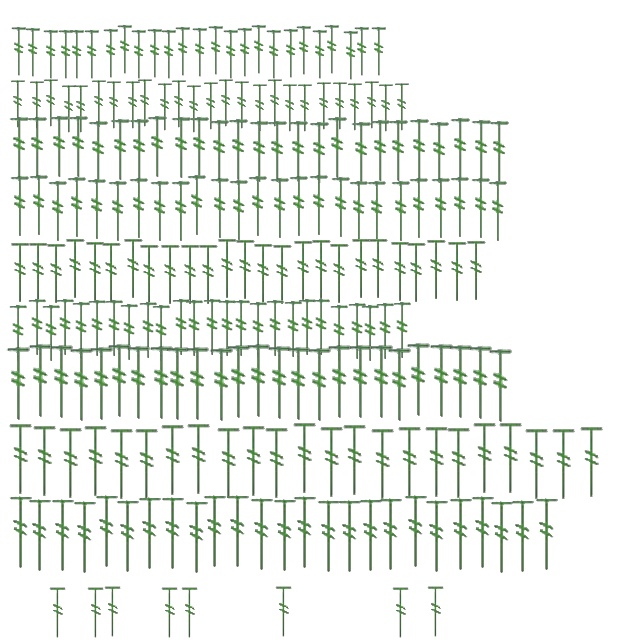fan: (26, 496, 54, 576), (49, 496, 77, 576), (71, 498, 99, 578), (93, 492, 121, 572), (136, 494, 164, 574), (159, 494, 187, 574), (183, 498, 211, 578), (201, 492, 229, 572), (224, 492, 252, 572), (271, 496, 299, 576), (357, 496, 385, 576), (402, 492, 430, 572), (488, 498, 516, 578), (7, 494, 35, 572), (114, 498, 142, 576), (248, 496, 276, 574), (291, 494, 319, 572), (315, 498, 343, 576), (336, 498, 364, 576), (377, 496, 405, 574), (423, 498, 451, 576), (447, 496, 475, 574), (469, 494, 497, 572), (509, 498, 537, 576), (533, 496, 561, 574), (7, 422, 35, 496), (31, 424, 59, 498), (57, 426, 85, 500), (82, 424, 110, 498), (108, 427, 136, 501), (133, 427, 161, 501), (159, 423, 187, 497), (185, 422, 213, 496), (215, 426, 243, 500), (240, 424, 268, 498), (263, 426, 291, 500), (291, 421, 319, 495), (318, 425, 346, 499), (341, 423, 369, 497), (369, 427, 397, 501), (396, 425, 424, 499), (423, 425, 451, 499), (445, 426, 473, 500), (471, 421, 499, 495), (497, 421, 525, 495), (523, 427, 551, 501), (550, 427, 578, 501), (578, 425, 606, 499), (5, 346, 31, 422), (27, 343, 53, 419), (48, 344, 74, 420), (68, 347, 94, 423), (88, 346, 114, 422), (106, 343, 132, 419), (125, 345, 151, 421), (148, 345, 174, 421), (164, 346, 190, 422), (184, 346, 210, 422), (208, 347, 234, 423), (225, 344, 251, 420), (245, 343, 271, 419), (266, 345, 292, 421), (285, 346, 311, 422), (306, 347, 332, 423), (326, 344, 352, 420), (347, 344, 373, 420), (368, 344, 394, 420), (386, 347, 412, 423), (405, 342, 431, 418), (428, 343, 454, 419), (447, 344, 473, 420), (467, 345, 493, 421), (487, 348, 513, 424), (84, 240, 108, 304), (234, 238, 258, 302), (252, 242, 276, 306), (310, 238, 334, 302), (328, 242, 352, 306), (446, 240, 470, 304), (64, 238, 88, 300), (100, 242, 124, 304), (122, 238, 146, 300), (138, 244, 162, 306), (216, 238, 240, 300), (292, 240, 316, 302), (350, 238, 374, 300), (8, 116, 30, 180), (26, 116, 48, 180), (48, 115, 70, 179), (67, 115, 89, 179), (87, 120, 109, 184), (109, 118, 131, 182), (128, 118, 150, 182), (146, 115, 168, 179), (170, 116, 192, 180), (188, 116, 210, 180), (208, 119, 230, 183), (227, 118, 249, 182), (248, 120, 270, 184), (266, 120, 288, 184), (287, 120, 309, 184), (308, 121, 330, 185), (326, 116, 348, 180), (350, 121, 372, 185), (369, 119, 391, 183), (387, 119, 409, 183), (408, 118, 430, 182), (428, 121, 450, 185), (449, 117, 471, 181), (470, 119, 492, 183), (488, 120, 510, 184), (28, 174, 50, 238), (66, 176, 88, 240), (86, 178, 108, 242), (170, 180, 192, 244), (186, 174, 208, 238), (308, 174, 330, 238), (330, 176, 352, 240), (348, 180, 370, 244), (366, 180, 388, 244), (390, 180, 412, 244), (46, 242, 68, 306), (390, 240, 412, 304), (426, 238, 448, 302), (128, 178, 150, 240), (228, 180, 250, 242), (288, 176, 310, 238), (408, 178, 430, 240), (430, 178, 452, 240), (470, 178, 492, 240), (10, 242, 32, 304), (28, 242, 50, 304), (160, 244, 182, 306), (180, 244, 202, 306), (198, 244, 220, 306), (272, 244, 294, 306), (368, 238, 390, 300), (406, 242, 428, 304), (466, 240, 488, 302), (48, 180, 68, 244), (108, 180, 128, 244), (150, 180, 170, 244), (450, 176, 470, 240), (488, 180, 508, 244), (10, 176, 30, 238), (210, 178, 230, 240), (248, 176, 268, 238), (270, 178, 290, 240), (8, 304, 28, 364), (27, 298, 47, 358), (41, 304, 61, 364), (55, 298, 75, 358), (151, 304, 171, 364), (171, 298, 191, 358), (202, 298, 222, 358), (283, 300, 303, 360), (297, 298, 317, 358), (311, 298, 331, 358), (329, 304, 349, 364), (347, 302, 367, 362), (360, 304, 380, 364), (375, 302, 395, 362), (71, 302, 91, 360), (87, 300, 107, 358), (104, 300, 124, 358), (119, 304, 139, 362), (138, 302, 158, 360), (184, 300, 204, 358), (217, 300, 237, 358), (231, 300, 251, 358), (248, 302, 268, 360), (265, 300, 285, 358), (392, 302, 412, 360), (48, 586, 68, 640), (86, 586, 106, 640), (160, 586, 180, 640), (180, 586, 200, 640), (391, 586, 411, 640), (103, 586, 123, 638), (274, 586, 294, 638), (426, 586, 446, 638), (10, 26, 28, 78), (102, 28, 120, 80), (116, 24, 134, 76), (146, 28, 164, 80), (174, 26, 192, 78), (250, 24, 268, 76), (282, 28, 300, 80), (342, 30, 360, 82), (370, 26, 388, 78), (9, 78, 27, 130), (28, 79, 46, 131), (42, 77, 60, 129), (60, 83, 78, 135), (72, 83, 90, 135), (90, 78, 108, 130), (105, 79, 123, 131), (124, 79, 142, 131), (136, 77, 154, 129), (156, 81, 174, 133), (170, 78, 188, 130), (185, 83, 203, 135), (202, 80, 220, 132), (217, 77, 235, 129), (233, 79, 251, 131), (251, 82, 269, 134), (266, 77, 284, 129), (281, 82, 299, 134), (296, 82, 314, 134), (315, 80, 333, 132), (331, 80, 349, 132), (346, 81, 364, 133), (363, 79, 381, 131), (377, 82, 395, 134), (393, 81, 411, 133), (24, 28, 42, 78), (42, 30, 60, 80), (68, 30, 86, 80), (130, 30, 148, 80), (160, 30, 178, 80), (222, 30, 240, 80), (236, 28, 254, 78), (324, 24, 340, 76), (354, 26, 370, 78), (58, 30, 74, 80), (84, 30, 100, 80), (192, 28, 208, 78), (208, 26, 224, 76), (266, 30, 282, 80), (296, 26, 312, 76), (312, 30, 328, 80)
